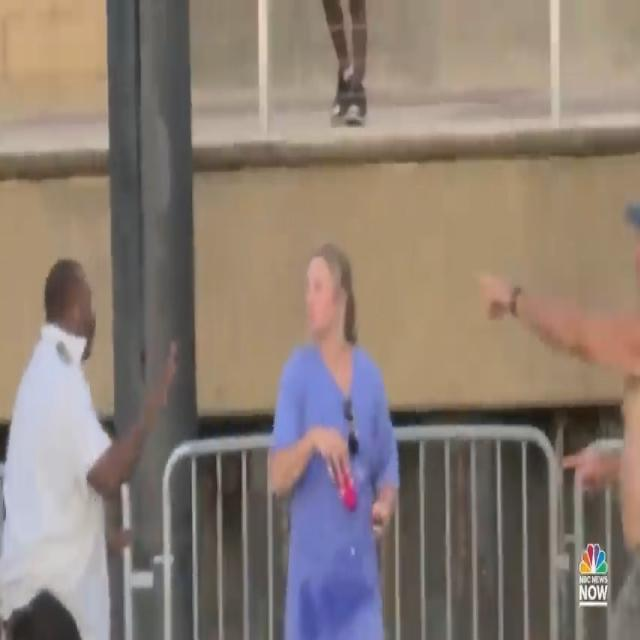non-fight: (0, 236, 407, 640)
